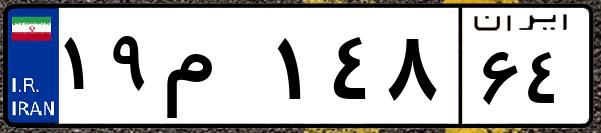1: (270, 28, 330, 110), (57, 26, 110, 100)
4: (330, 28, 385, 110), (525, 38, 570, 115)
6: (475, 38, 525, 113)
8: (385, 28, 445, 110)
9: (110, 28, 158, 98)
م: (158, 20, 270, 120)
